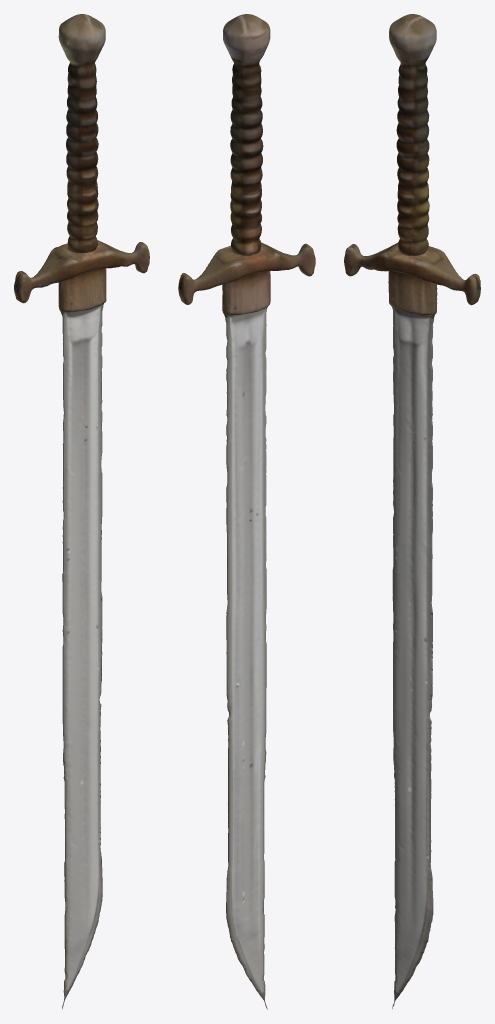
The model's file is Excalibur_s_Echo_1202125658_texture.glb.
3 views of the same model, side by side, from view 1: azimuth 30°, elevation 25°; view 2: azimuth 210°, elevation 25°; view 3: azimuth 330°, elevation 25° (orthographic).
Bounding box in the file's own units: 0.2785 × 2 × 0.0863.
Materials: 1 (1 with a texture image).
